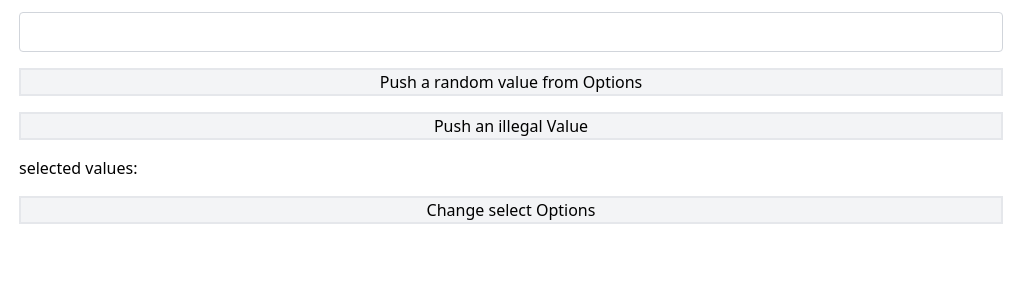
Scenario: Multiselect Component › should automatically deselect dynamically removed select options
The width and height of the screenshot is (1023, 289).
Click the element with test id "multiselect".
click(511, 32)  # box left=19, top=12, right=1003, bottom=52
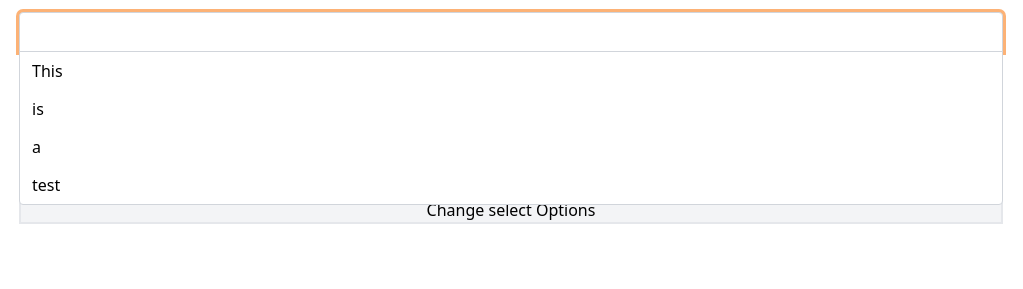
Result: the element with test id "dropdown" is shown at left=19, top=51, right=1003, bottom=205
Click the list item with test id "option".
click(46, 185)  # box left=32, top=174, right=60, bottom=196
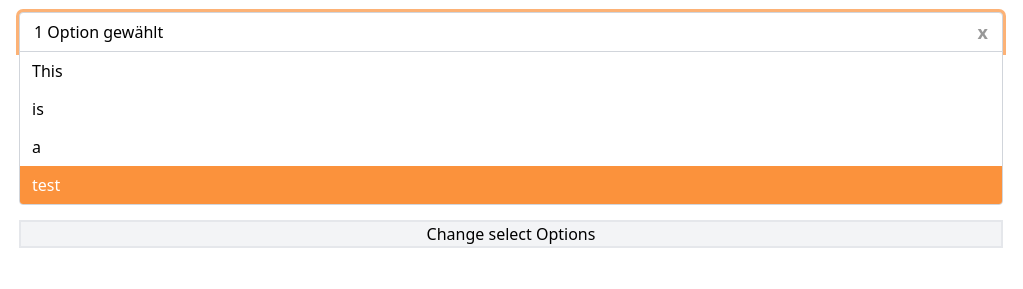
Result: the text "1 Option gewählt" is shown at left=34, top=21, right=163, bottom=43
Click the list item with test id "option".
click(37, 147)  # box left=32, top=136, right=41, bottom=158
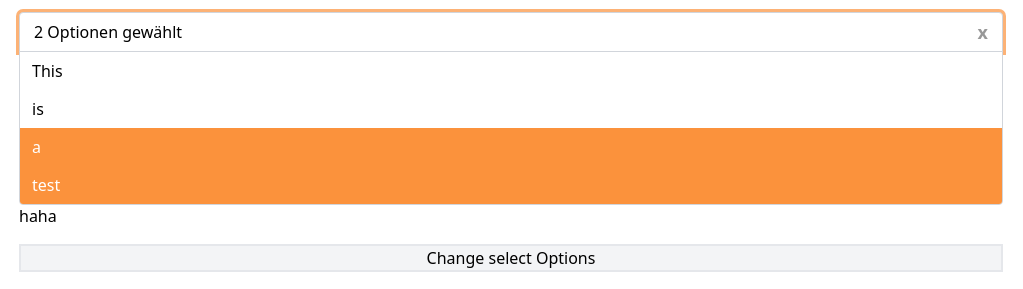
Result: the text "2 Optionen gewählt" is shown at left=34, top=21, right=182, bottom=43
Result: the list item "haha" is shown at left=19, top=205, right=57, bottom=227
Click the button with test id "changeOptionsButton".
click(511, 258)  # box left=19, top=244, right=1003, bottom=272
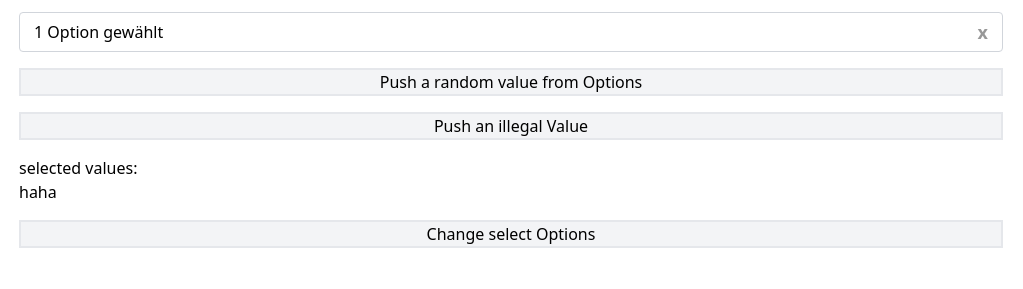
Result: the list item with test id "selected" no longer shows "4"
Result: the list item "haha" is shown at left=19, top=181, right=57, bottom=203
Result: the text "1 Option gewählt" is shown at left=34, top=21, right=163, bottom=43
